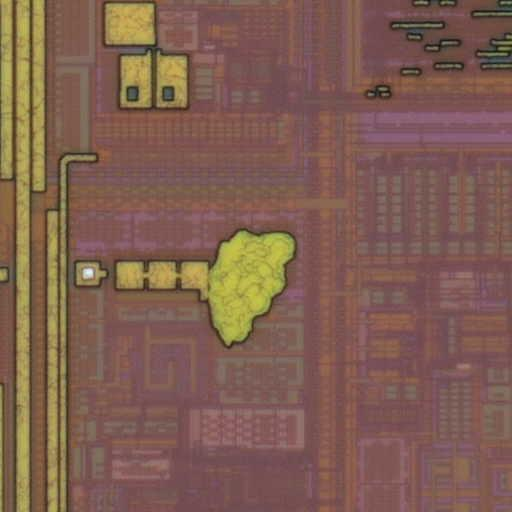BLOCK ETCH: (195, 224, 307, 354)
